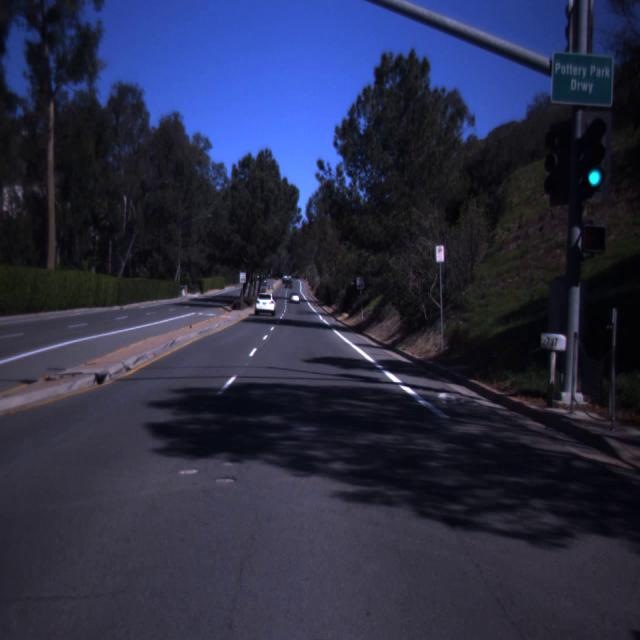yesil: (579, 118, 607, 197)
